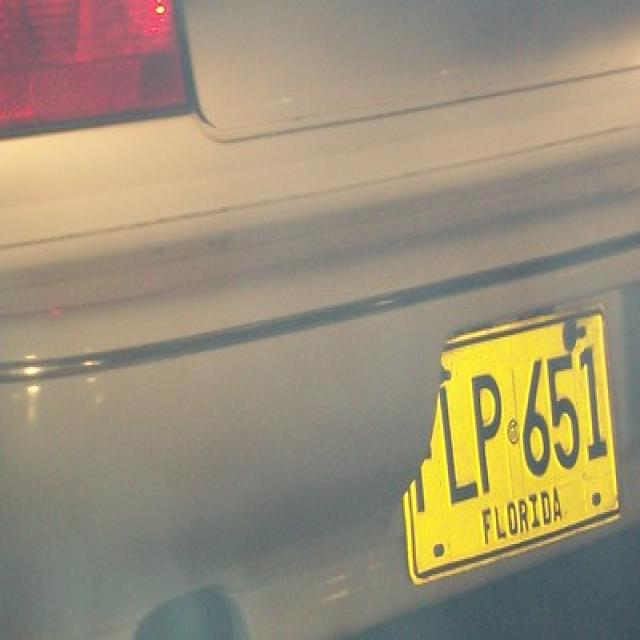placa_carro: (374, 298, 631, 592)
